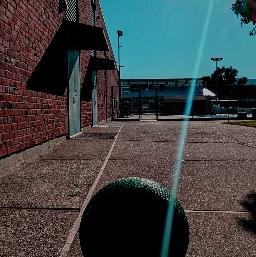algae: (82, 176, 188, 257)
